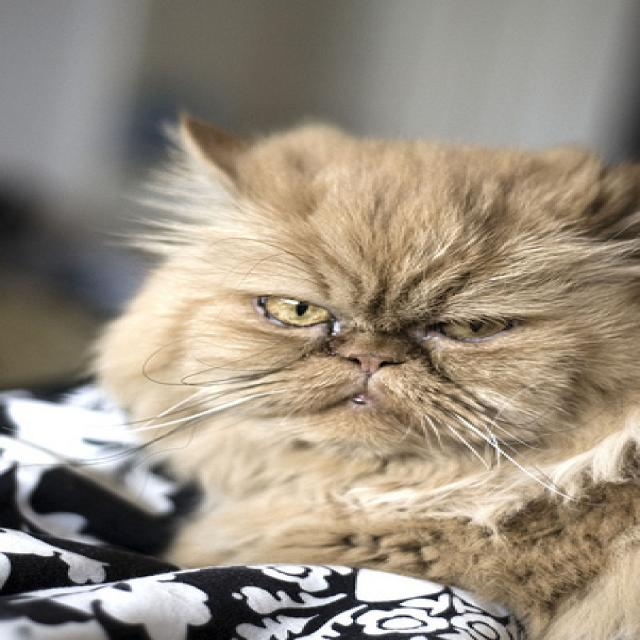Persian: (91, 106, 639, 640)
